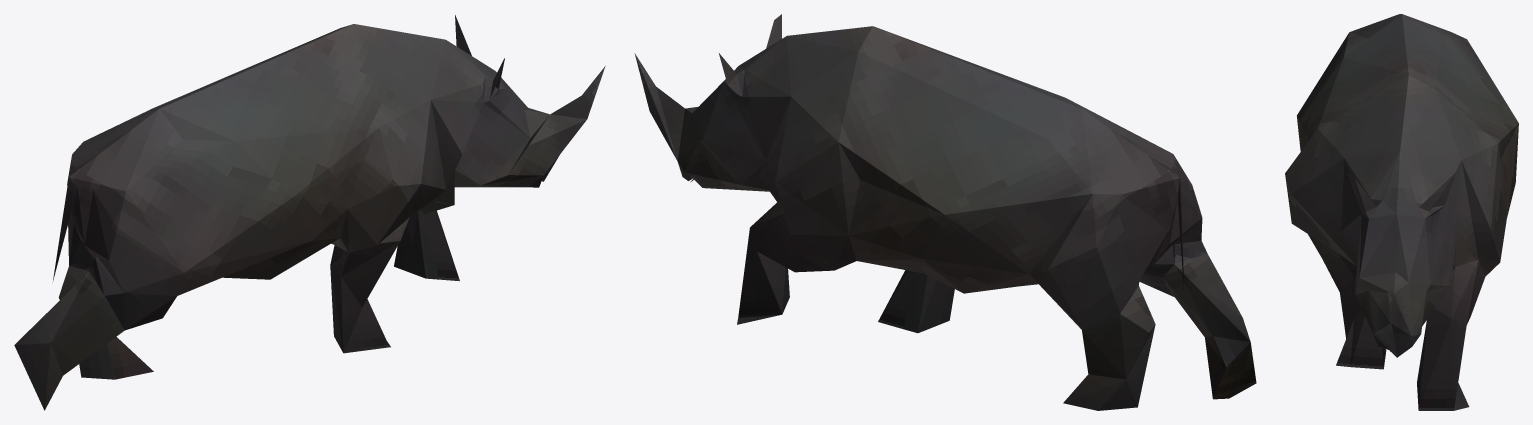
3 views of the same model, side by side, from view 1: azimuth 30°, elevation 25°; view 2: azimuth 150°, elevation 25°; view 3: azimuth 270°, elevation 25° (orthographic). The views are drawn at different scales.
Visible parts, largest first — view 1: Object_7; view 2: Object_7; view 3: Object_7.
Boxes of the visible parts, bbox=[...] form: Object_7: bbox=[14, 15, 605, 410]; Object_7: bbox=[634, 14, 1256, 410]; Object_7: bbox=[1285, 14, 1518, 410].
Size of the model in its own units: 86.3 by 41.26 by 30.11.
Materials: 1 (1 with a texture image).
